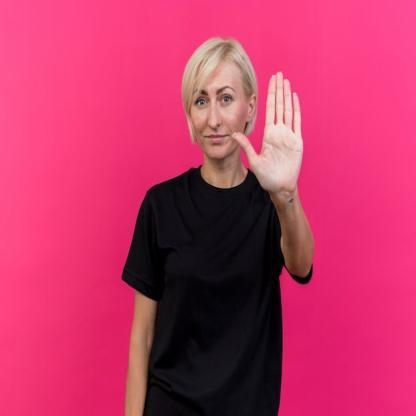stop: (228, 68, 306, 202)
